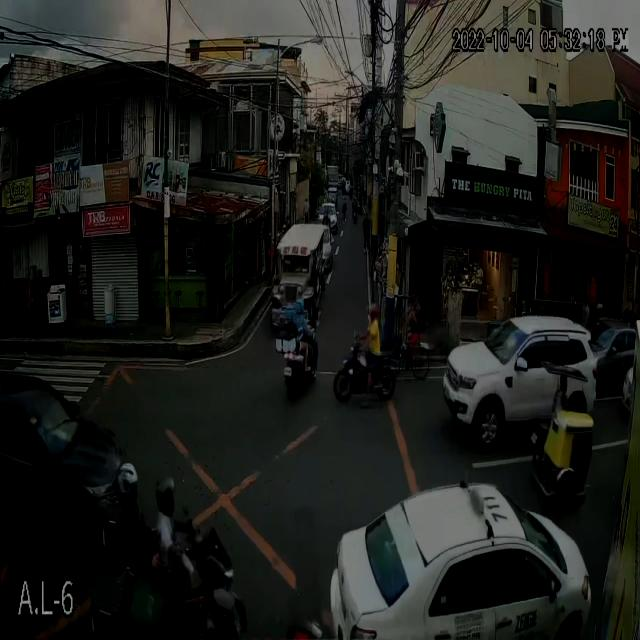Full-Faced: (118, 460, 142, 503), (155, 476, 178, 513), (364, 298, 379, 326), (292, 294, 306, 316)
